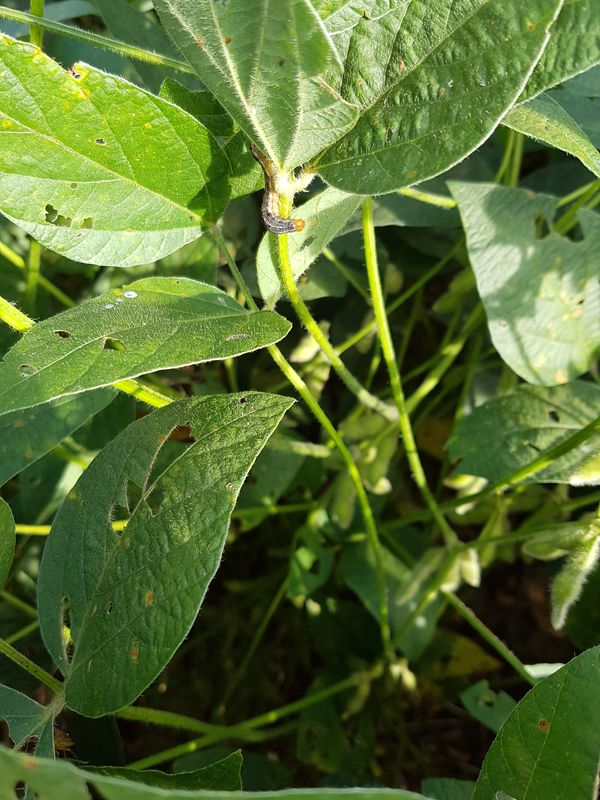Spodoptera_albula: (240, 136, 314, 237)
